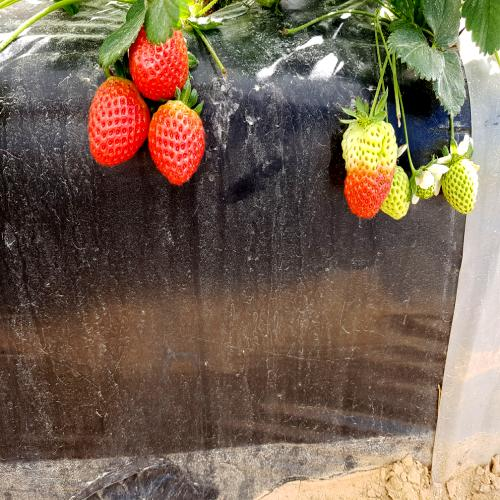partially-ripe: (332, 107, 400, 226)
ripe: (84, 58, 154, 176)
